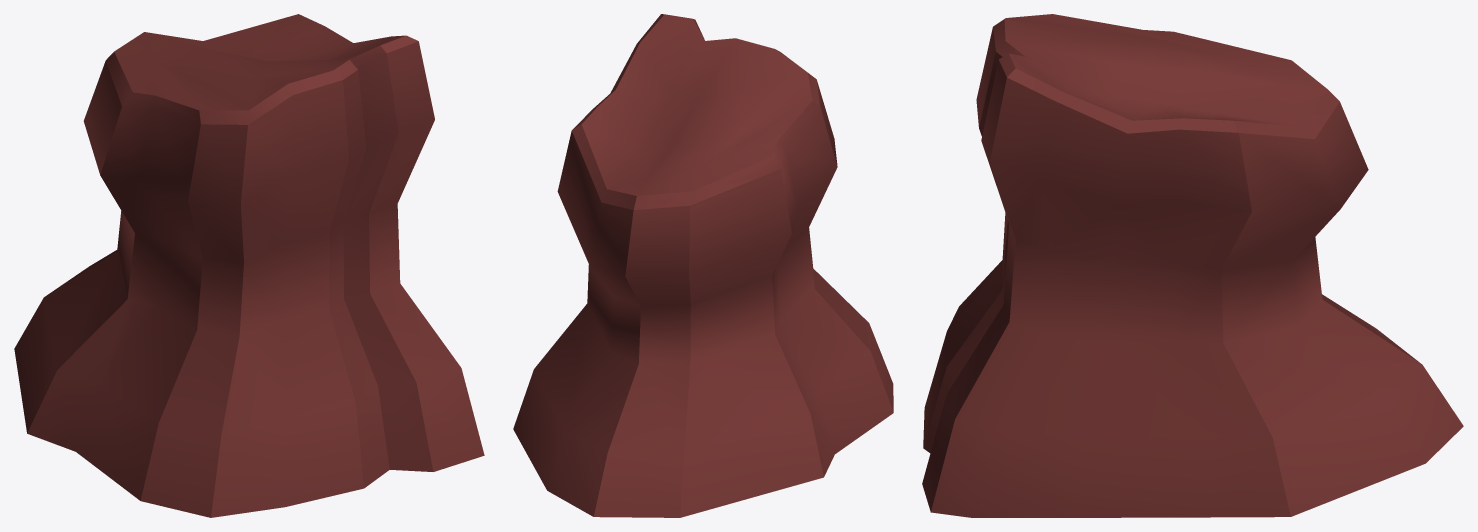
Rendered from Canyon_G.FBX.
The picture shows the model from 3 angles, left to right: view 1: azimuth 30°, elevation 25°; view 2: azimuth 150°, elevation 25°; view 3: azimuth 270°, elevation 25°; orthographic projection. The views are drawn at different scales.
Parts seen in each view (by area): view 1: Canyon_G; view 2: Canyon_G; view 3: Canyon_G.
Boxes of the visible parts, x1=… form: Canyon_G: x1=14, y1=14, x2=484, y2=517; Canyon_G: x1=513, y1=14, x2=893, y2=517; Canyon_G: x1=922, y1=14, x2=1463, y2=517.
Bounding box in the file's own units: 5976 × 6899 × 7980.
